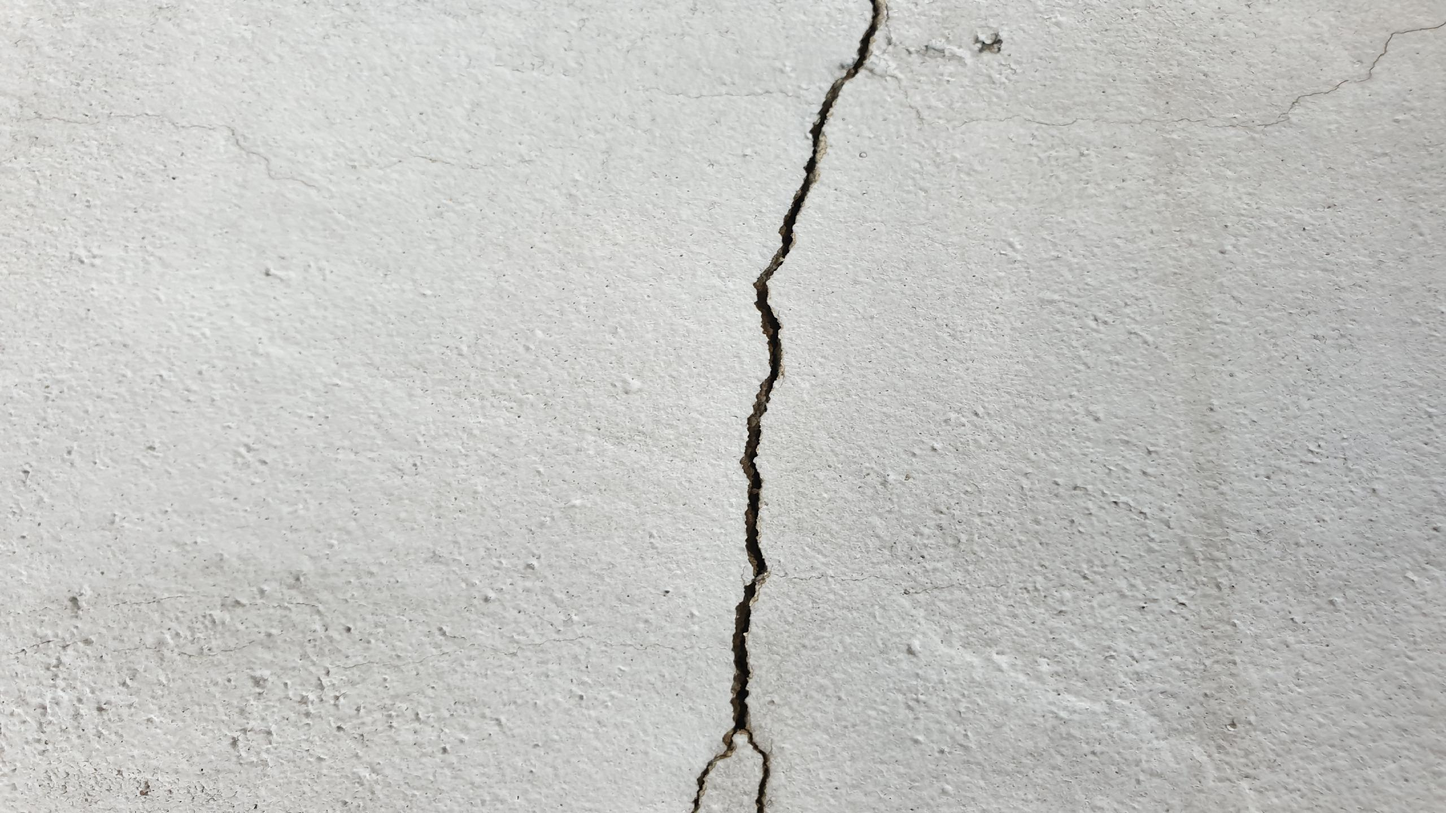crack: (687, 1, 883, 812)
